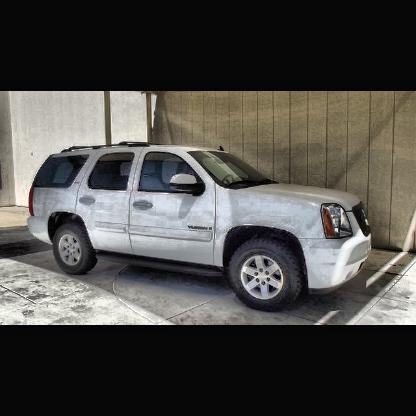GMC Yukon Hybrid SUV 2012: (28, 143, 372, 313)
